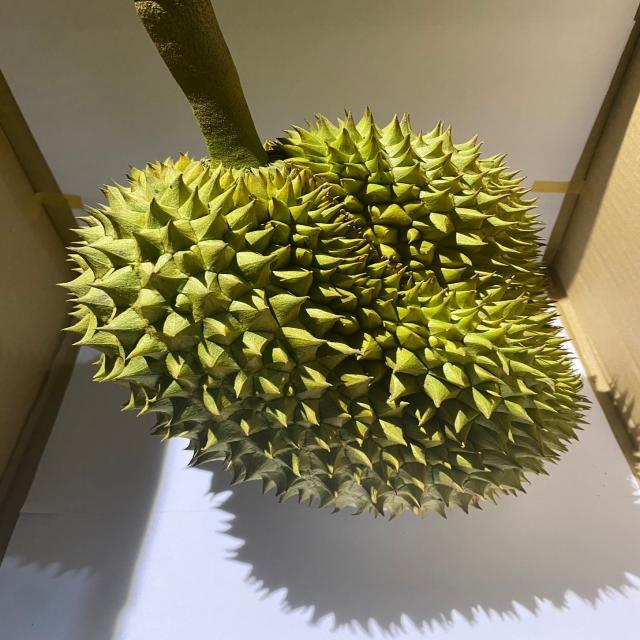immature: (54, 102, 596, 522)
